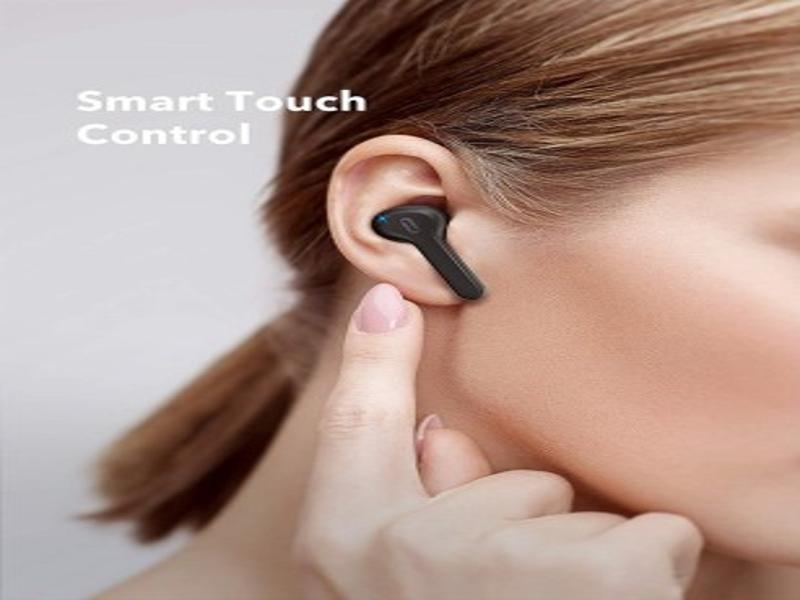headphone: (374, 199, 482, 300)
